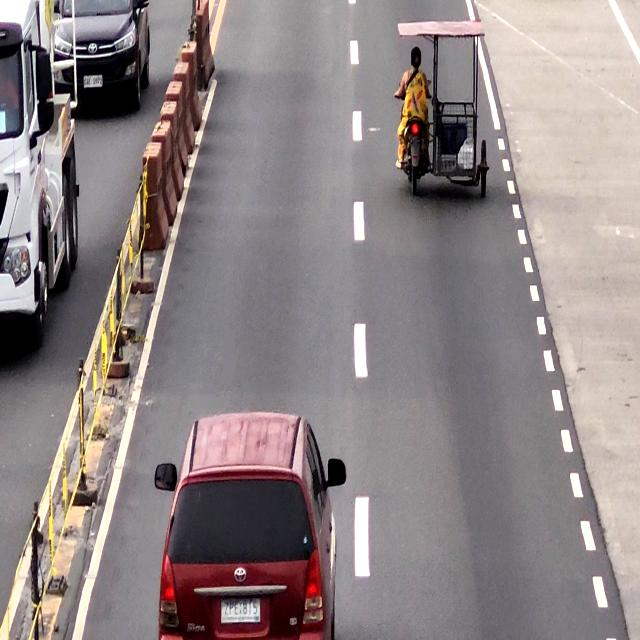Car: (160, 416, 333, 640)
License-Plate: (220, 592, 260, 625)
Tricycle: (399, 23, 483, 190)
